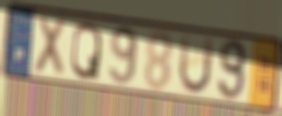8: (143, 29, 176, 94)
9: (215, 37, 248, 104), (108, 25, 138, 87)
Q: (69, 20, 104, 82)
U: (177, 32, 216, 97)
X: (31, 12, 70, 81)
